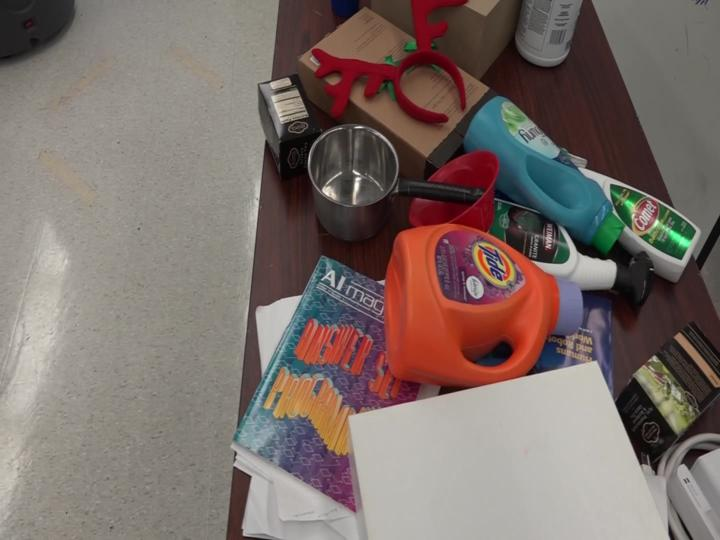tide: (362, 208, 596, 398)
